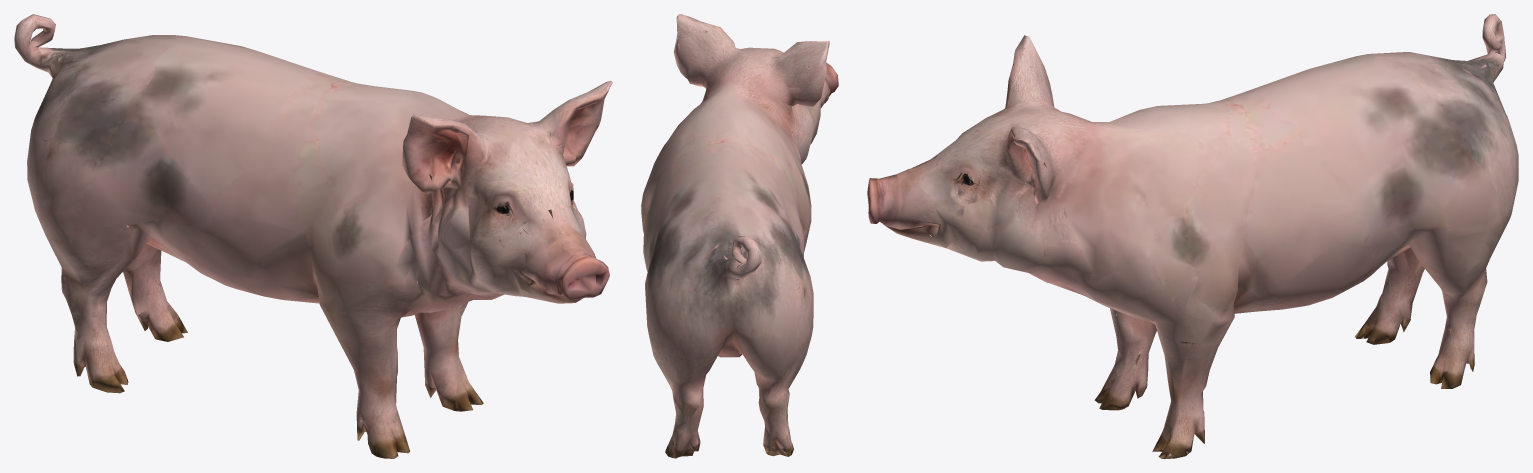
The model's file is warthog.glb.
3 views of the same model, side by side, from view 1: azimuth 30°, elevation 25°; view 2: azimuth 150°, elevation 25°; view 3: azimuth 270°, elevation 25° (orthographic). The views are drawn at different scales.
Parts seen in each view (by area): view 1: pig; view 2: pig; view 3: pig.
Boxes of the visible parts, x1=… form: pig: x1=14, y1=14, x2=612, y2=458; pig: x1=641, y1=14, x2=838, y2=458; pig: x1=867, y1=14, x2=1518, y2=458.
Bounding box in the file's own units: 0.8809 × 0.8474 × 1.4.
1 material, 1 textured.
